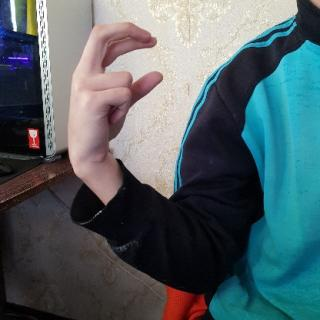DHELL: (60, 15, 164, 176)
